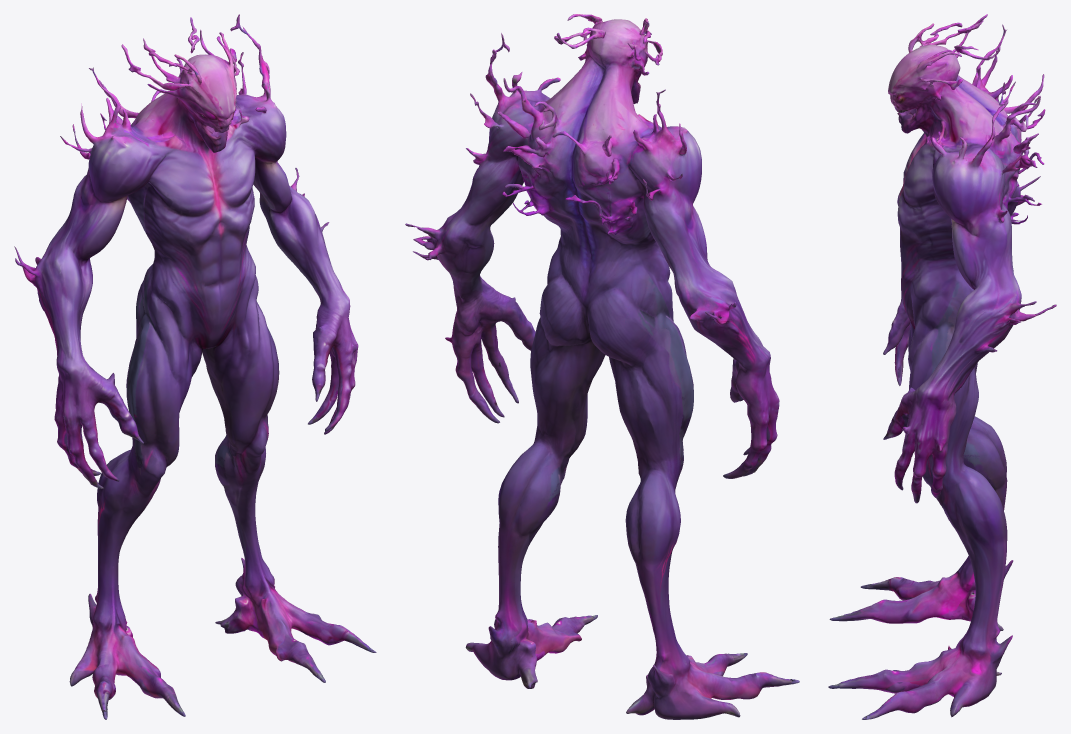
File: Meshy_AI_Nightshade_Specter_1115232858_texture.glb
The picture shows the model from 3 angles, left to right: view 1: azimuth 30°, elevation 25°; view 2: azimuth 150°, elevation 25°; view 3: azimuth 270°, elevation 25°; orthographic projection. The views are drawn at different scales.
Bounding box in the file's own units: 1 × 1.93 × 0.6435.
1 material, 1 textured.
